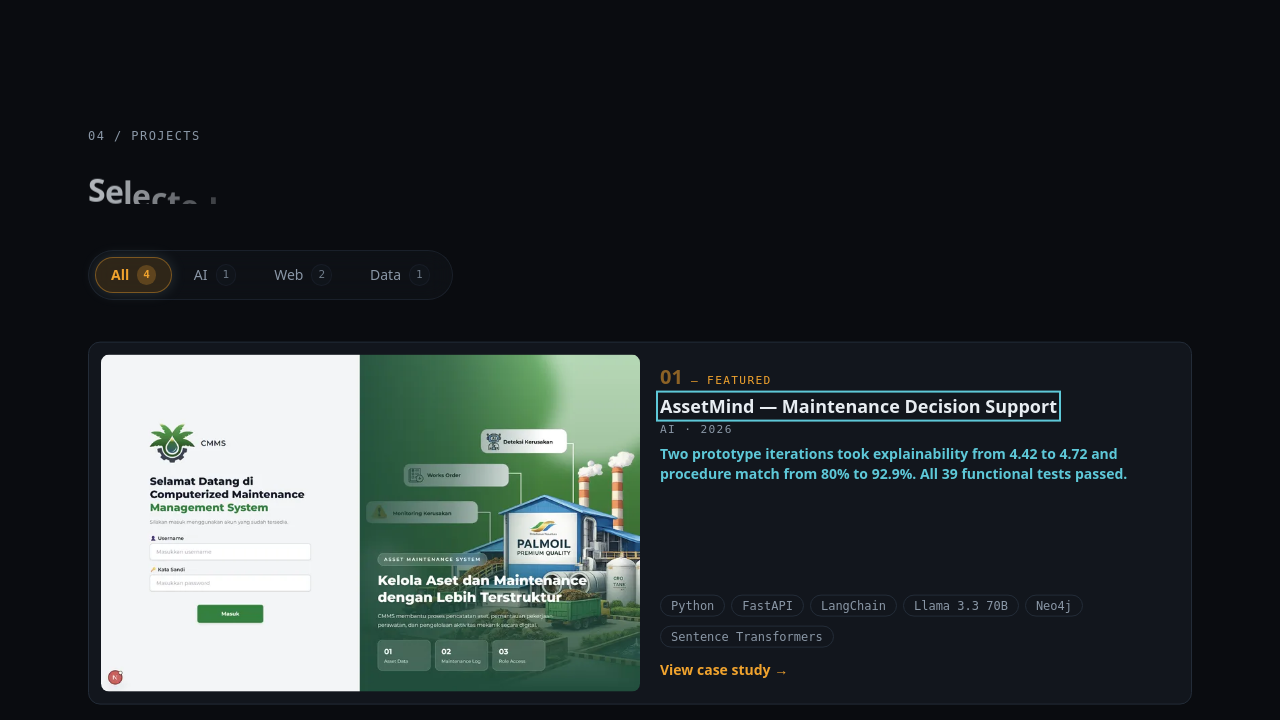
Test: project detail modal › returns focus to the card control that opened it
Click the button "AssetMind — Maintenance Decision Support" at (858,406), box [660, 395, 1057, 417]
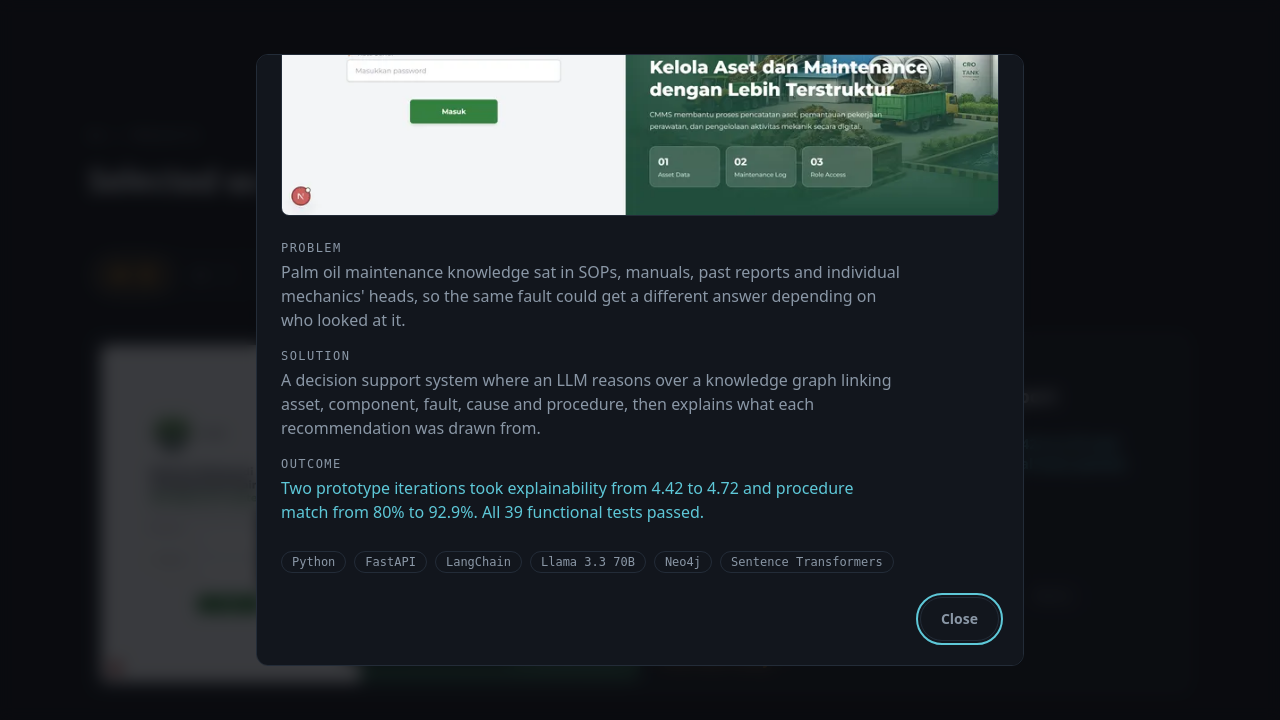
Click the button "Close" at (959,618), box [920, 596, 999, 640]
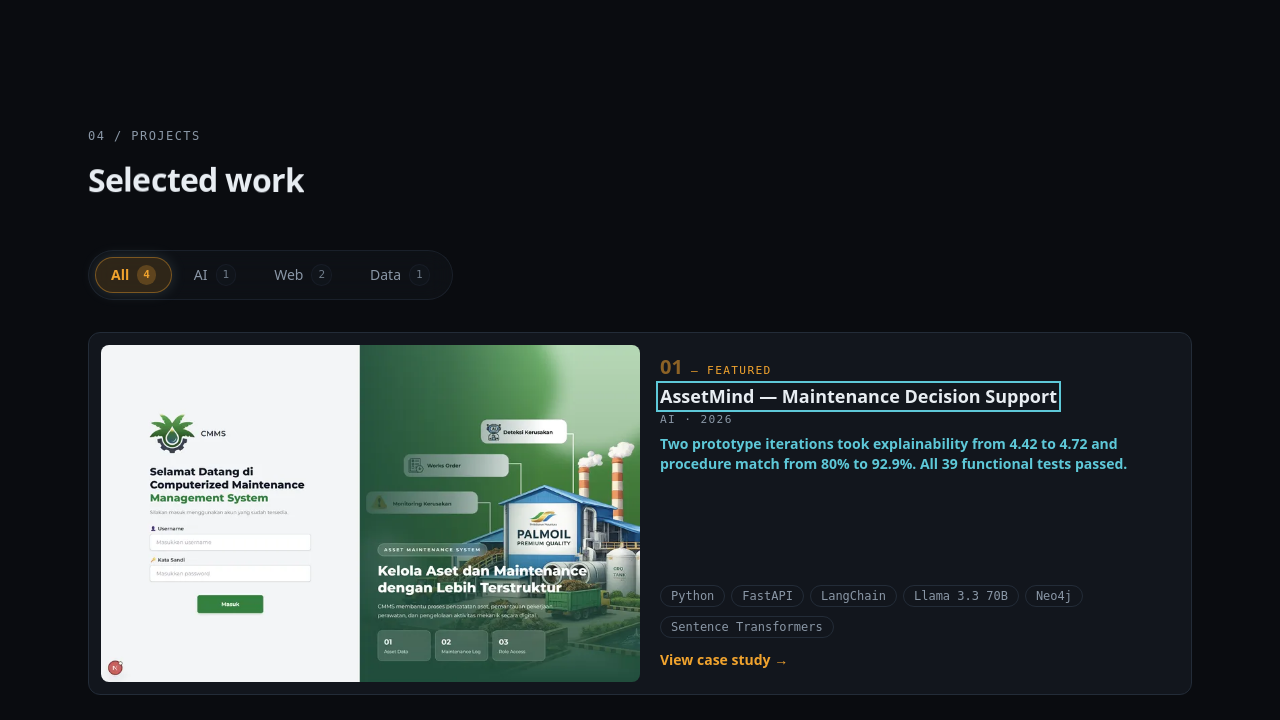
Check: the dialog is gone
